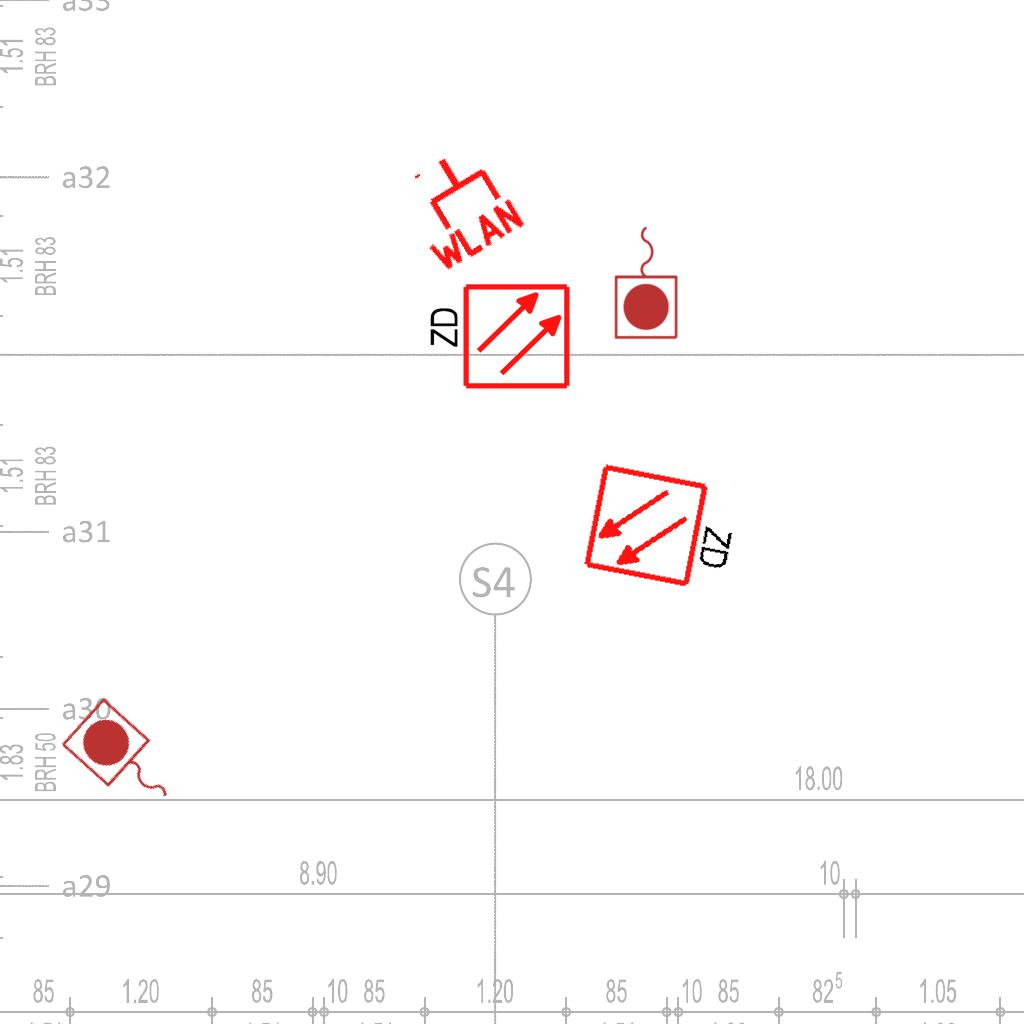WLAN: (386, 134, 531, 278)
ZD_Melder_in_Zwischendecke_mit_Revisionsoeffnung_mind_40_x_40_cm: (580, 457, 750, 598), (423, 281, 572, 395)
Zugtaster: (54, 692, 194, 828), (611, 221, 683, 343)
